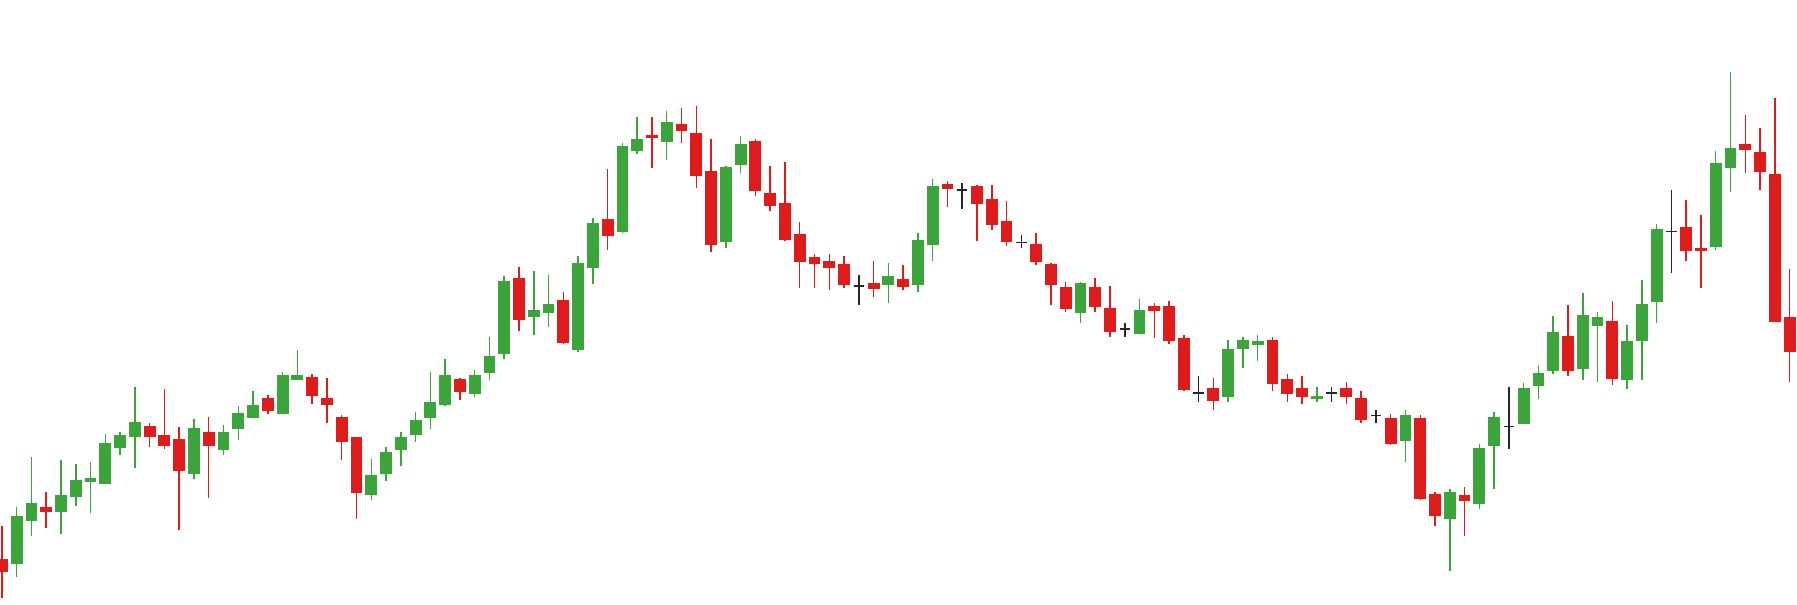buy: (202, 410, 380, 527), (84, 434, 188, 534)
